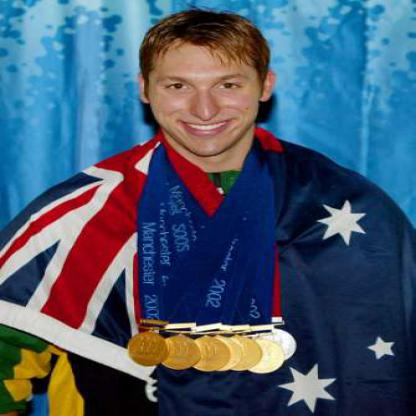face: (150, 19, 263, 158)
